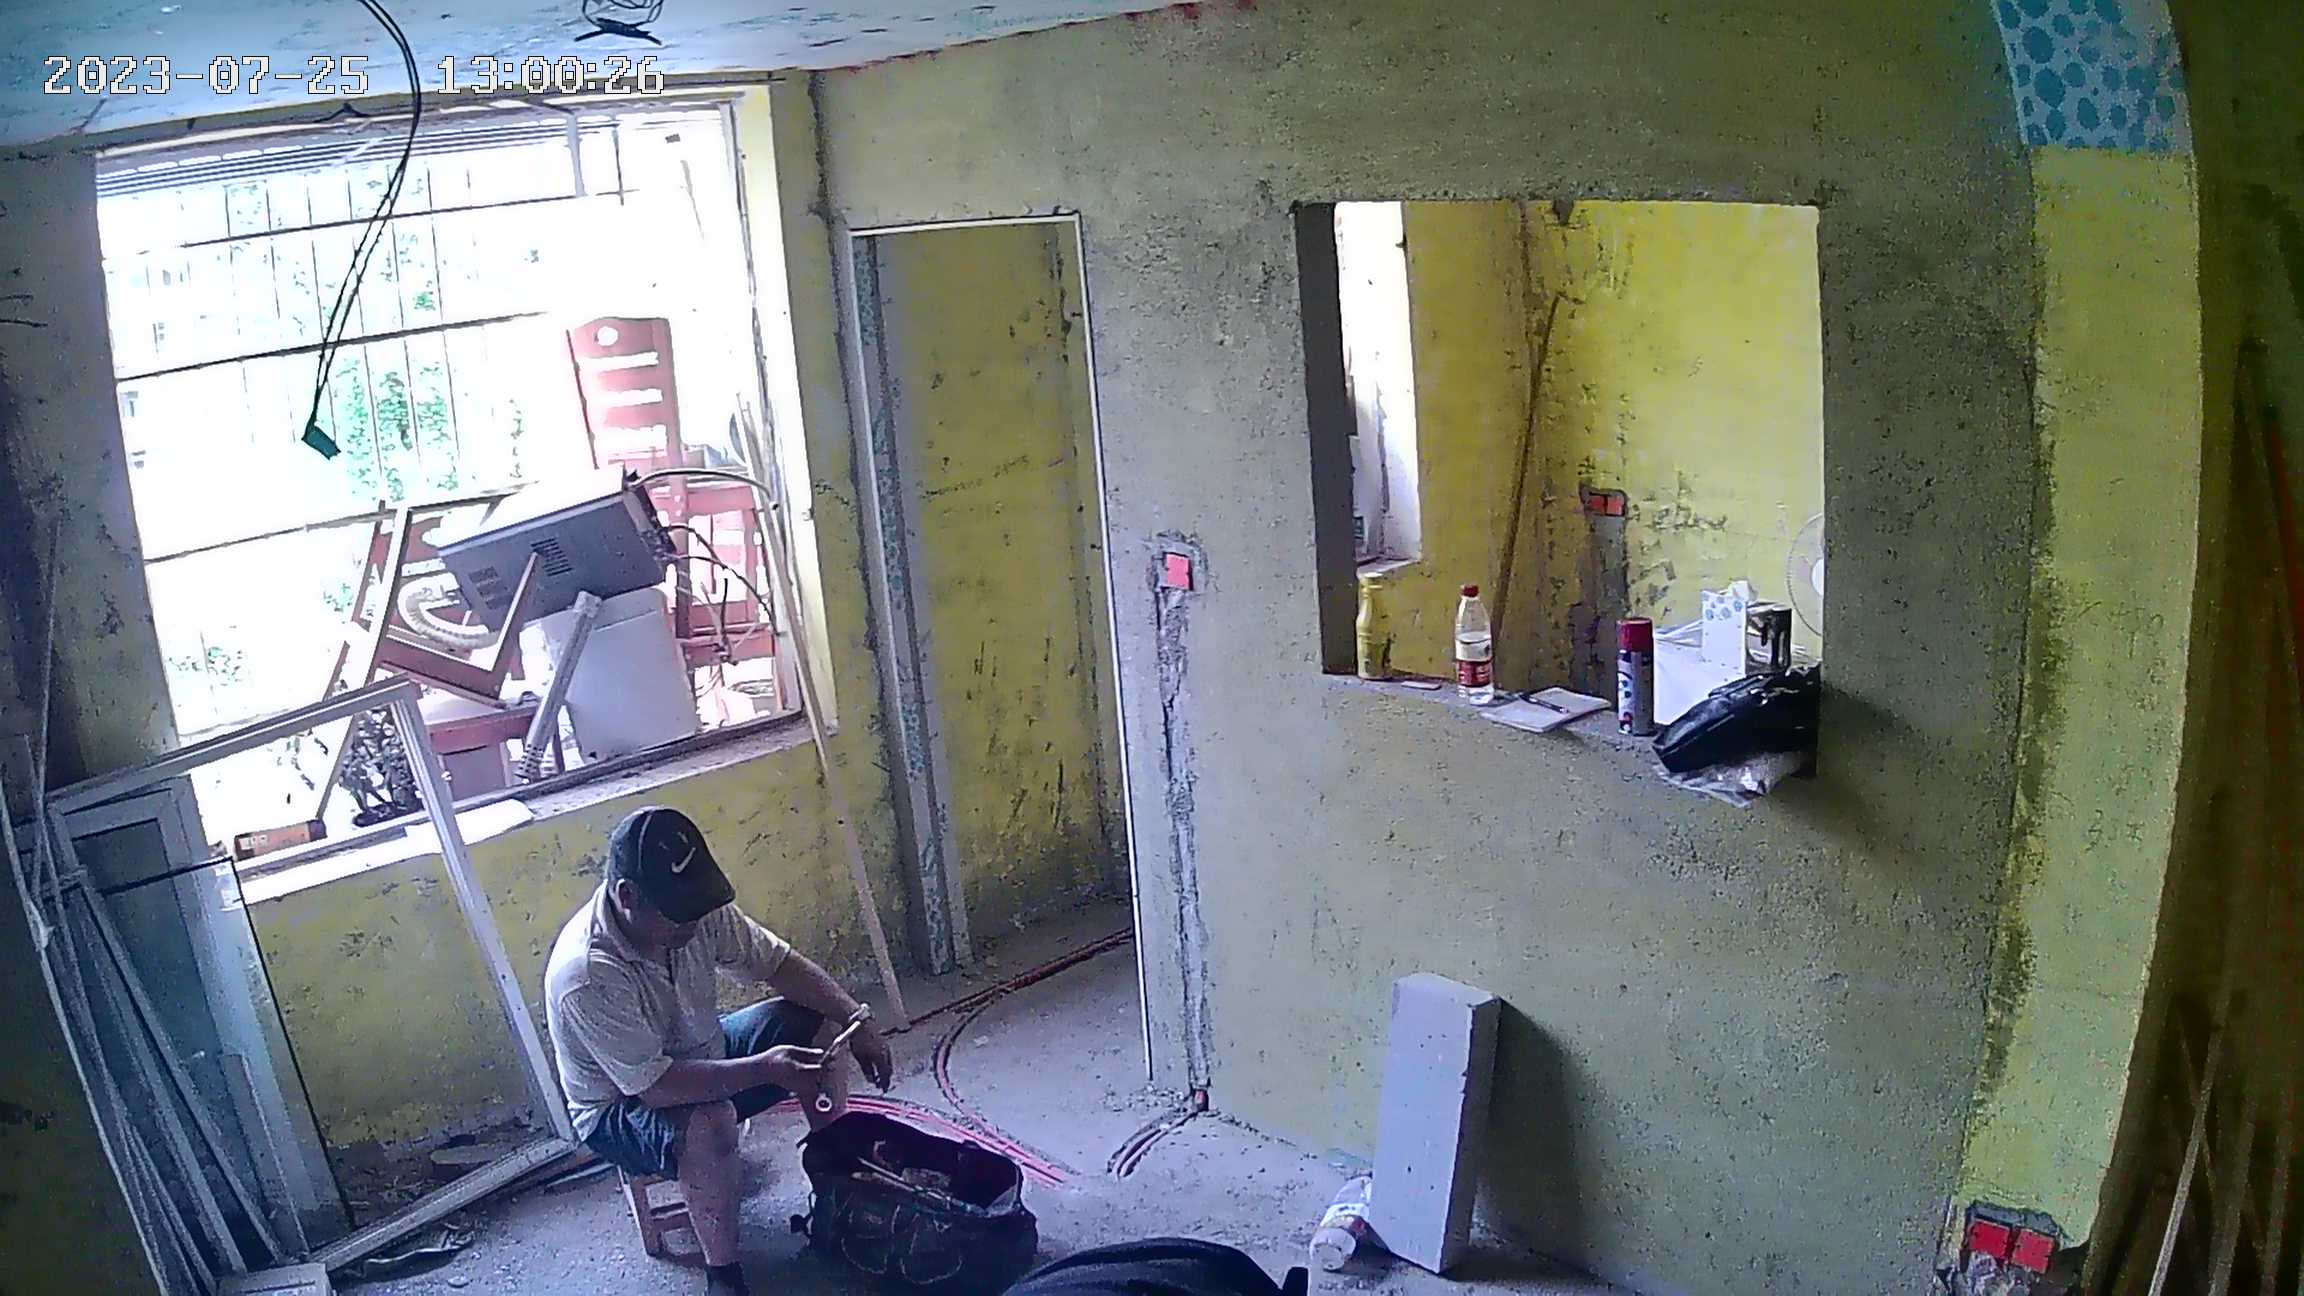people: (532, 815, 871, 1284)
window: (89, 112, 797, 766)
